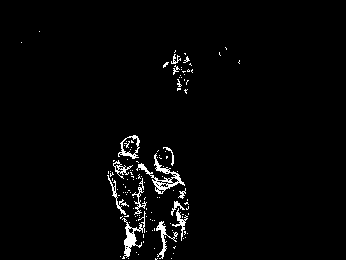person: (107, 133, 150, 258), (145, 145, 190, 260)
